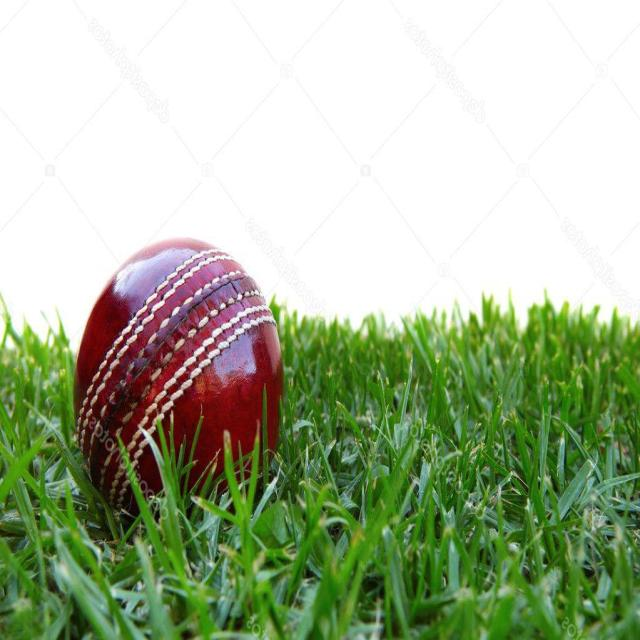ball: (72, 246, 281, 535)
